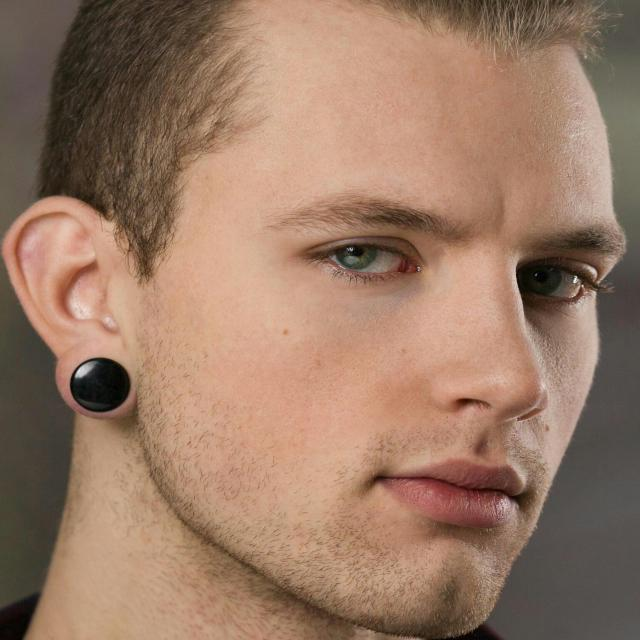front: (281, 168, 618, 571)
